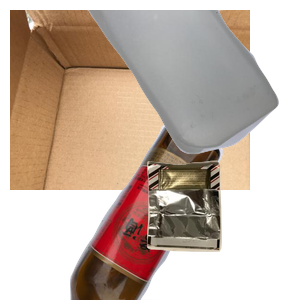cardboard: (10, 10, 250, 190)
glass: (67, 120, 282, 300)
plastic: (84, 10, 300, 157)
trash: (144, 158, 300, 300)
